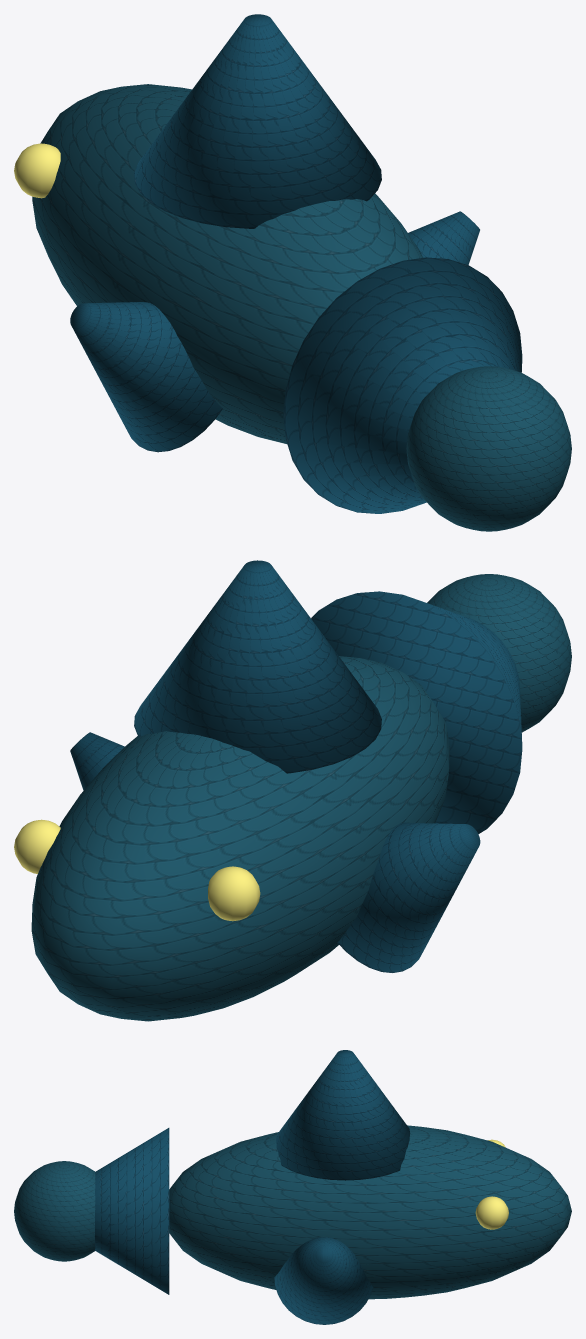
The model's file is ahuizotl.glb.
3 renders of one model, top to bottom at view 1: azimuth 30°, elevation 25°; view 2: azimuth 150°, elevation 25°; view 3: azimuth 270°, elevation 25°, orthographic. The views are drawn at different scales.
Parts seen in each view (by area): view 1: Body, TailFin, Dorsal, TailHand, Pectoral, Pectoral.001, Eye; view 2: Body, Dorsal, TailFin, Pectoral, TailHand, Eye, Eye.001, Pectoral.001; view 3: Body, Dorsal, TailFin, TailHand, Pectoral.001, Eye.001.
Boxes of the visible parts, left/top/right/bottom form: Body: left=32, top=84, right=423, bottom=443; TailFin: left=283, top=257, right=522, bottom=513; Dorsal: left=134, top=14, right=381, bottom=228; TailHand: left=406, top=366, right=571, bottom=531; Pectoral: left=70, top=302, right=222, bottom=452; Pectoral.001: left=408, top=211, right=479, bottom=265; Eye: left=14, top=143, right=60, bottom=198; Body: left=31, top=656, right=449, bottom=1021; Dorsal: left=134, top=560, right=381, bottom=773; TailFin: left=311, top=591, right=522, bottom=833; Pectoral: left=337, top=822, right=480, bottom=972; TailHand: left=427, top=574, right=571, bottom=732; Eye: left=208, top=866, right=260, bottom=921; Eye.001: left=14, top=819, right=60, bottom=873; Pectoral.001: left=70, top=732, right=124, bottom=790; Body: left=169, top=1125, right=571, bottom=1299; Dorsal: left=276, top=1050, right=410, bottom=1180; TailFin: left=95, top=1128, right=169, bottom=1294; TailHand: left=14, top=1161, right=95, bottom=1261; Pectoral.001: left=274, top=1237, right=373, bottom=1324; Eye.001: left=475, top=1196, right=508, bottom=1229.
Size of the model in its own units: 0.611 by 0.5639 by 1.2.
3 materials, 2 textured.
